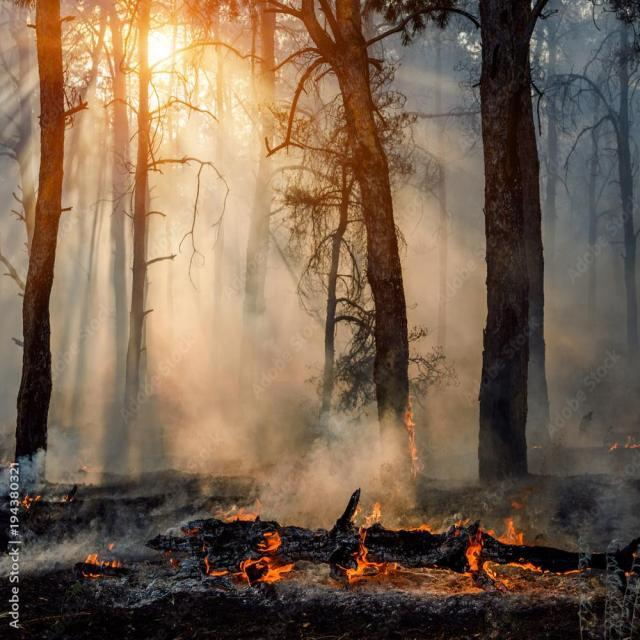Fire: (457, 518, 548, 610), (208, 536, 296, 600), (334, 512, 389, 606), (398, 409, 450, 501), (74, 534, 132, 591), (20, 478, 77, 524)
Smoke: (353, 108, 640, 410), (92, 178, 346, 500), (0, 200, 215, 460)
